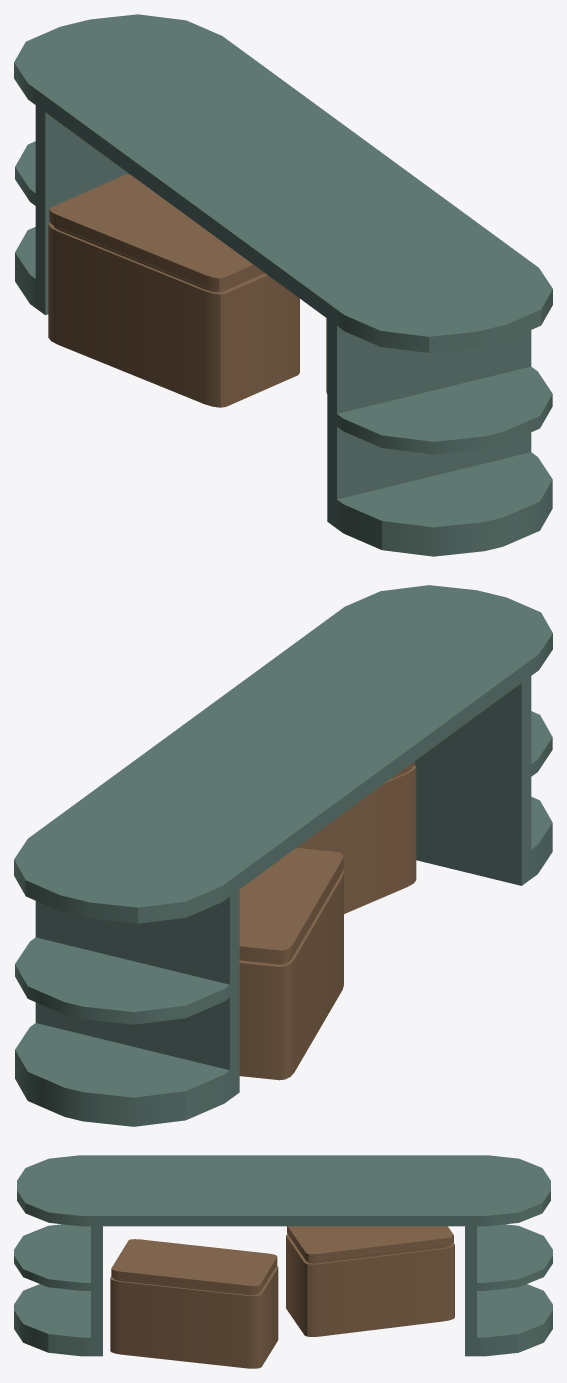
File: Stand1.fbx
3 renders of one model, top to bottom at view 1: azimuth 30°, elevation 25°; view 2: azimuth 150°, elevation 25°; view 3: azimuth 270°, elevation 25°, orthographic. The views are drawn at different scales.
Visible parts, largest first — view 1: MidStand; view 2: MidStand; view 3: MidStand.
Part boxes in pixels (x1,y1,x2,y2): MidStand: (14,14,552,556); MidStand: (14,585,552,1126); MidStand: (14,1155,552,1368).
Bounding box in the file's own units: 475 × 387 × 1346.
